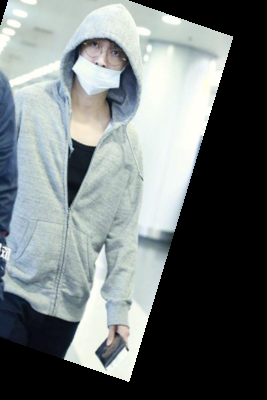mask_weared_incorrect: (64, 4, 155, 106)
